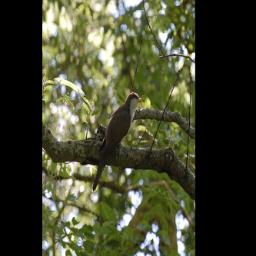Cuckoo: (89, 79, 146, 210)
